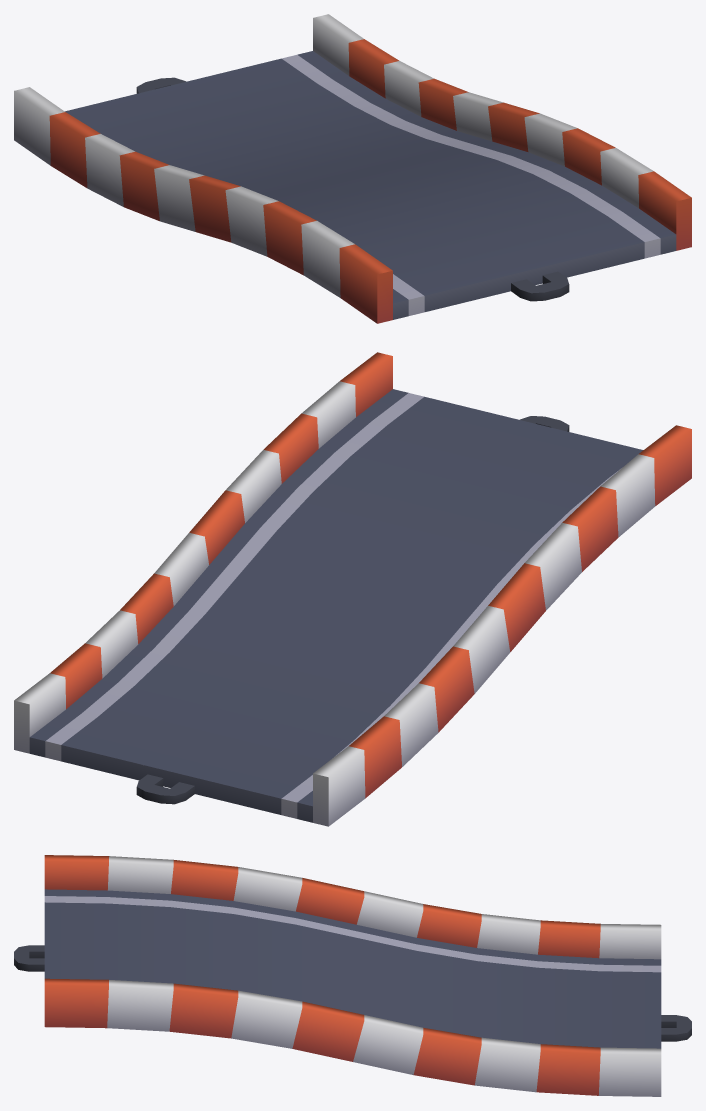
Rendered from track-road-wide-straight-hill-complete-half.glb.
The picture shows the model from 3 angles, top to bottom: view 1: azimuth 30°, elevation 25°; view 2: azimuth 150°, elevation 25°; view 3: azimuth 270°, elevation 25°; orthographic projection. The views are drawn at different scales.
Visible parts, largest first — view 1: track-road-wide-straight-hill-complete-half; view 2: track-road-wide-straight-hill-complete-half; view 3: track-road-wide-straight-hill-complete-half.
Part boxes in pixels (x1,y1,x2,y2): track-road-wide-straight-hill-complete-half: (14,14,691,323); track-road-wide-straight-hill-complete-half: (14,352,691,826); track-road-wide-straight-hill-complete-half: (14,855,691,1096).
Bounding box in the file's own units: 2 × 0.8 × 4.4.
